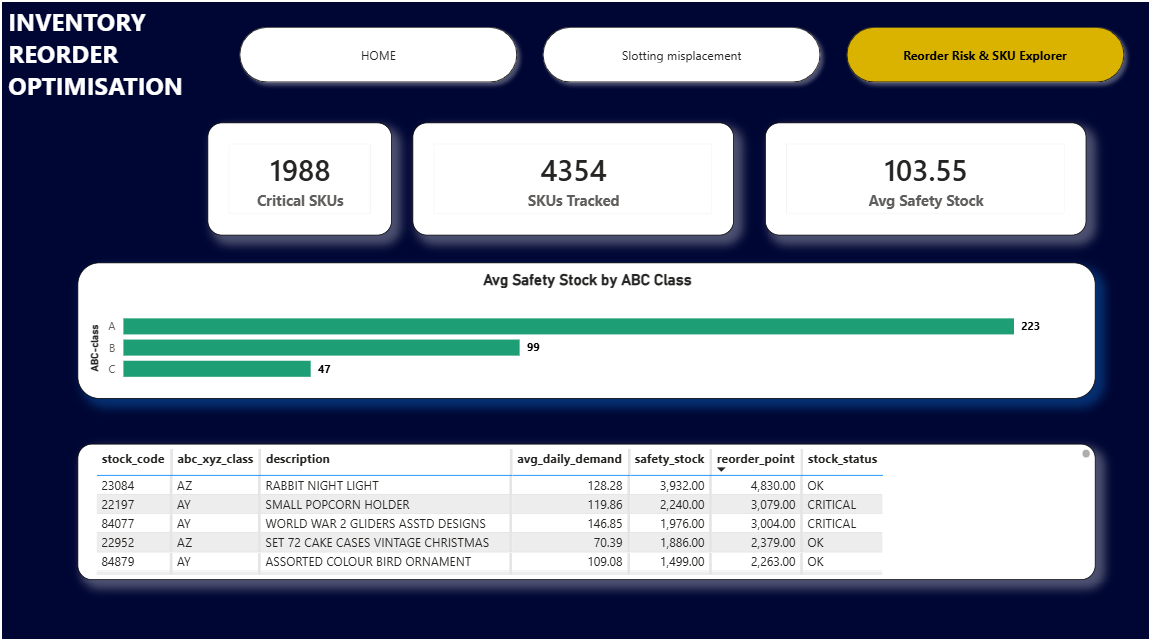

This screenshot's page, from the dashboard's own definition file:
{"tool":"powerbi","page":{"name":"Reorder Risk & SKU Explorer","canvas":[1280,720],"ordinal":2},"visuals":[{"type":"pageNavigator","box":[259.7,20.6,991,79.7],"z":0},{"type":"textbox","box":[10.3,0,275.1,120.8],"z":1000},{"type":"cardVisual","fields":{"Data":["retail_slotting_db reorder_point_analysis.SKUs Tracked"]},"box":[458.6,134.2,352.6,123.7],"z":2000},{"type":"cardVisual","fields":{"Data":["retail_slotting_db reorder_point_analysis.Avg Safety Stock"]},"box":[845.2,134.2,352.6,123.7],"z":3000},{"type":"cardVisual","fields":{"Data":["retail_slotting_db reorder_point_analysis.Critical SKUs"]},"box":[232.9,134.2,202.6,123.7],"z":4000},{"type":"clusteredBarChart","title":"Avg Safety Stock by ABC Class","fields":{"Category":["retail_slotting_db abc_xyz_matrix.abc_class"],"Y":["retail_slotting_db reorder_point_analysis.Avg Safety Stock"]},"box":[91.2,287.6,1118,150],"z":5000},{"type":"tableEx","fields":{"Values":["retail_slotting_db reorder_point_analysis.stock_code","retail_slotting_db abc_xyz_matrix.abc_xyz_class","retail_slotting_db abc_xyz_matrix.description","retail_slotting_db reorder_point_analysis.avg_daily_demand","retail_slotting_db reorder_point_analysis.safety_stock","retail_slotting_db reorder_point_analysis.reorder_point","retail_slotting_db reorder_point_analysis.stock_status"]},"box":[91.2,487.1,1118,150],"z":6000}]}

Visuals, with their boxes in screenshot pixels (x1, y1, x2, y2), scaled from the page's 1280x720 canvas onto the 1151x641 screenshot:
pageNavigator: Rect(234, 18, 1125, 89)
textbox: Rect(9, 0, 257, 108)
cardVisual - retail_slotting_db reorder_point_analysis.SKUs Tracked: Rect(412, 119, 729, 230)
cardVisual - retail_slotting_db reorder_point_analysis.Avg Safety Stock: Rect(760, 119, 1077, 230)
cardVisual - retail_slotting_db reorder_point_analysis.Critical SKUs: Rect(209, 119, 392, 230)
"Avg Safety Stock by ABC Class" clusteredBarChart: Rect(82, 256, 1087, 390)
tableEx - retail_slotting_db reorder_point_analysis.stock_code x retail_slotting_db abc_xyz_matrix.abc_xyz_class: Rect(82, 434, 1087, 567)
